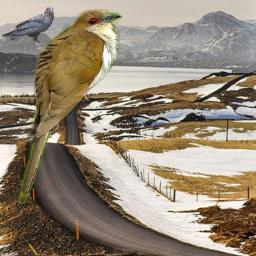Crow: (2, 6, 54, 52)
Cuckoo: (17, 9, 123, 205)
